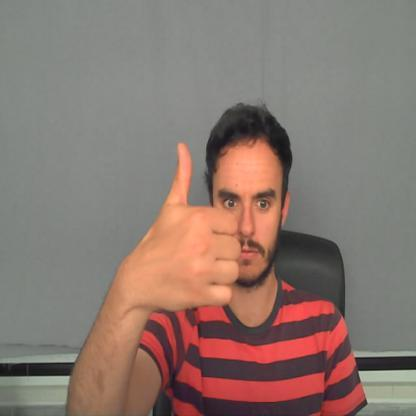thumbs-up: (134, 145, 246, 312)
